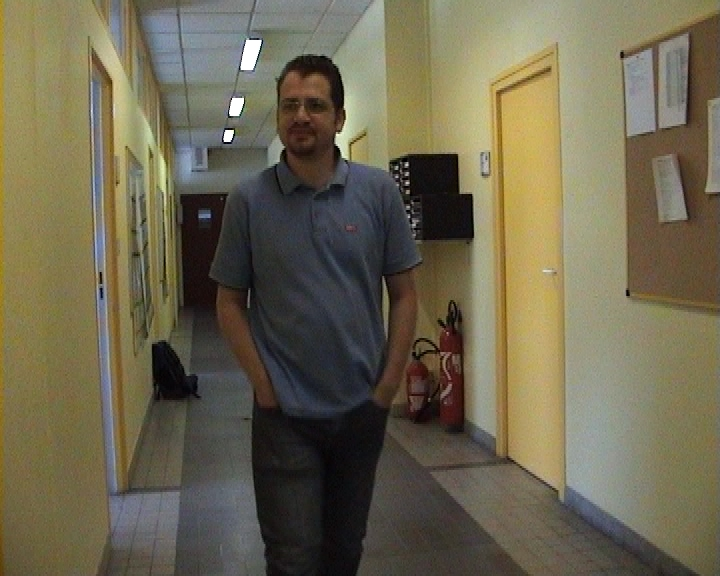leave bag unattended: (127, 310, 225, 466)
